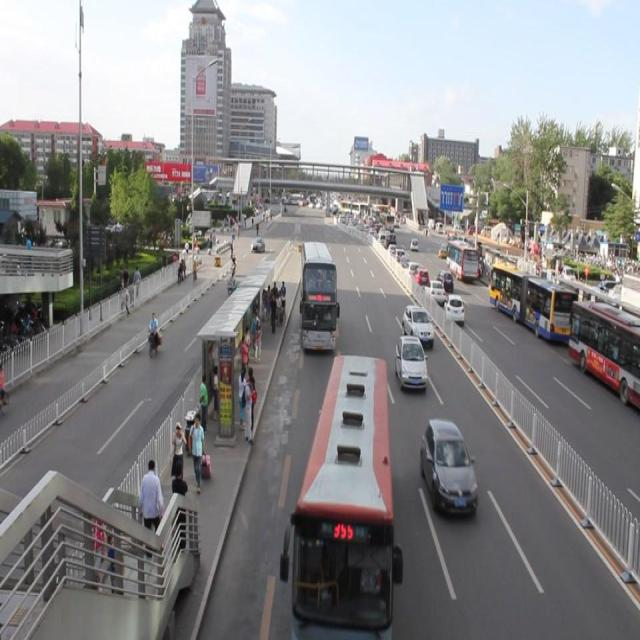car: (417, 417, 478, 520), (392, 334, 429, 391), (400, 303, 433, 345)
van: (277, 356, 403, 640), (295, 240, 339, 356)
